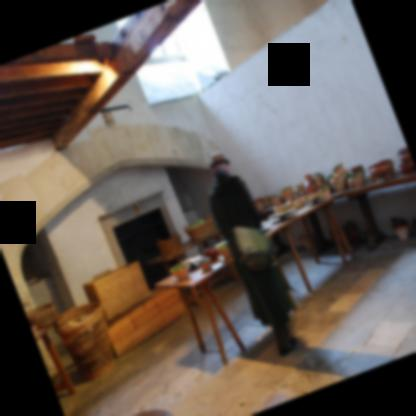backpack: (229, 226, 274, 271)
